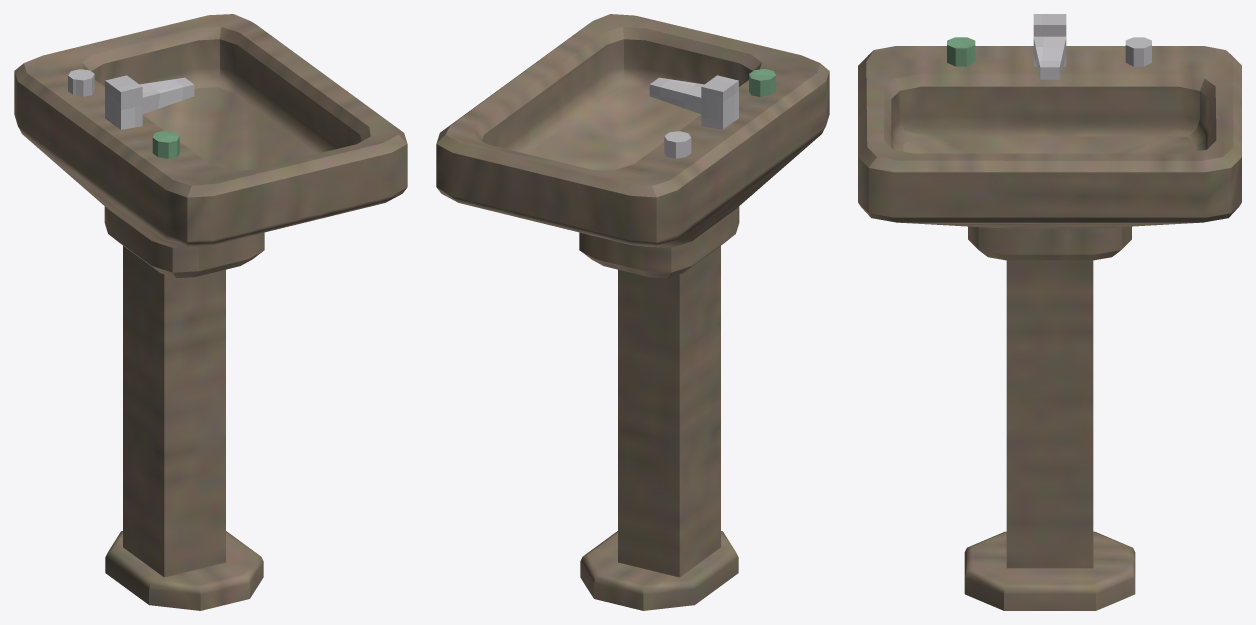
The model's file is Sink.fbx.
The picture shows the model from 3 angles, left to right: view 1: azimuth 30°, elevation 25°; view 2: azimuth 150°, elevation 25°; view 3: azimuth 270°, elevation 25°; orthographic projection. The views are drawn at different scales.
Parts seen in each view (by area): view 1: Sink; view 2: Sink; view 3: Sink.
Boxes of the visible parts, left/top/right/bottom form: Sink: left=14, top=14, right=407, bottom=610; Sink: left=436, top=14, right=829, bottom=610; Sink: left=858, top=14, right=1241, bottom=610.
Size of the model in its own units: 45 by 91.55 by 60.
